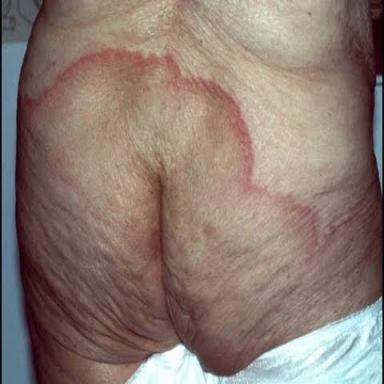Tinea-Corporis: (17, 50, 380, 380)
